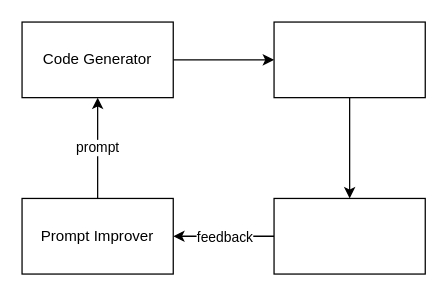
This 447x296 diagram has some shape labels left out. The shapes that lost their labels are listed below. From the top down, each one's box as (x1, y1, x2, y2) in pixels, then its label:
(273, 21, 425, 98): Code Extractor
(273, 197, 425, 274): Evaluator
